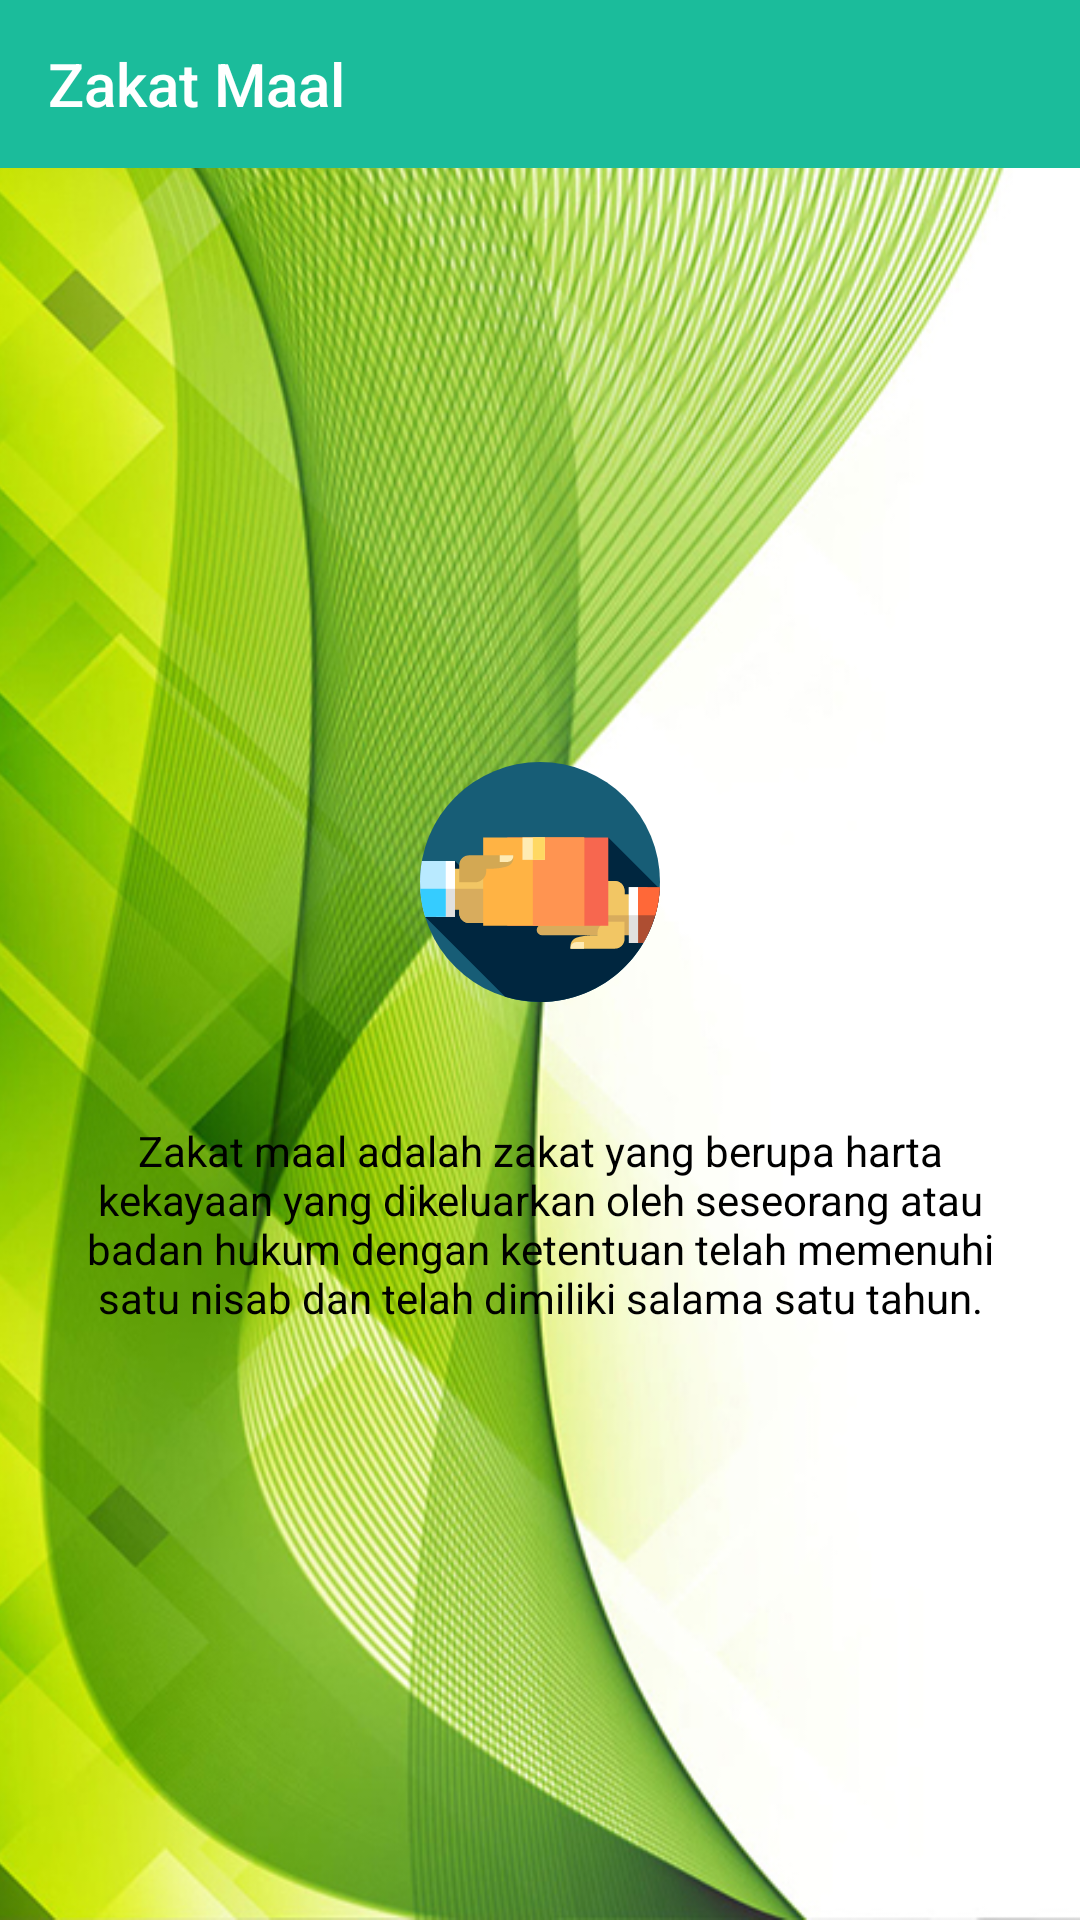

Icon click points for this 1080*1920 phone screenshot, format (x,y):
give: (540,882)
